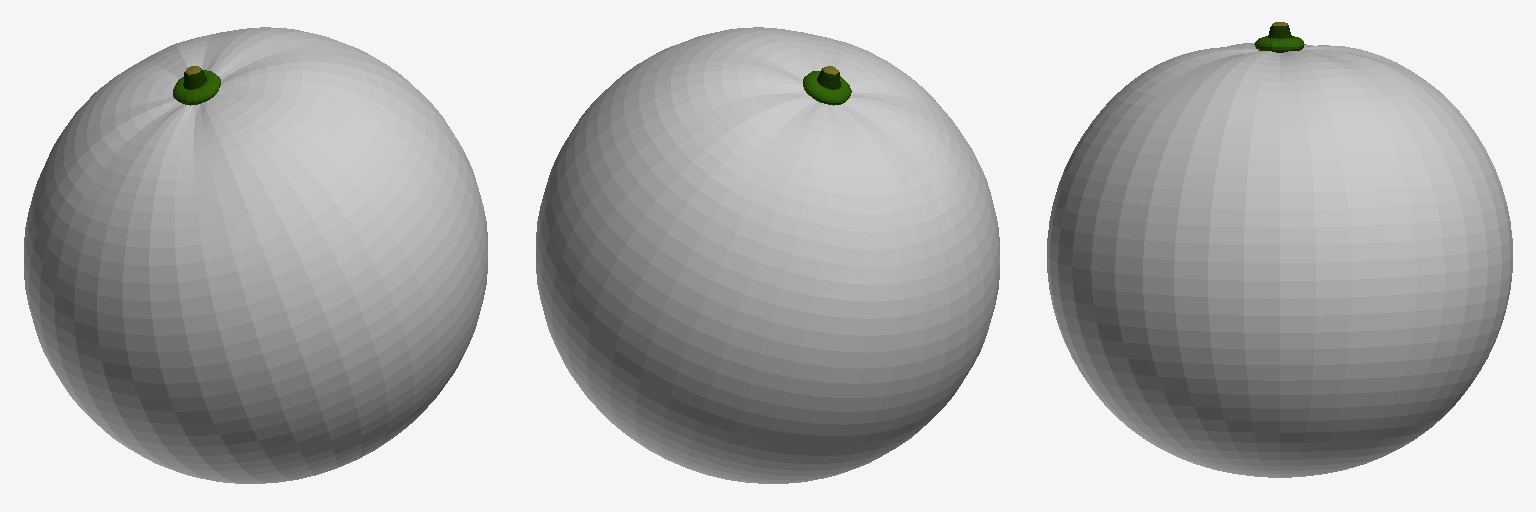
File: orange.obj
3 views of the same model, side by side, from view 1: azimuth 30°, elevation 25°; view 2: azimuth 150°, elevation 25°; view 3: azimuth 270°, elevation 25° (orthographic).
Visible parts, largest first — view 1: pSphere7_Untitled, pTorus1_Untitled.001; view 2: pSphere7_Untitled, pTorus1_Untitled.001; view 3: pSphere7_Untitled, pTorus1_Untitled.001.
Part boxes in pixels (bbox=[...]): pSphere7_Untitled: bbox=[24, 27, 487, 483]; pTorus1_Untitled.001: bbox=[173, 70, 220, 105]; pSphere7_Untitled: bbox=[536, 27, 999, 483]; pTorus1_Untitled.001: bbox=[803, 71, 851, 105]; pSphere7_Untitled: bbox=[1047, 43, 1512, 477]; pTorus1_Untitled.001: bbox=[1254, 36, 1304, 52].
Bounding box in the file's own units: 6.52 × 6.28 × 6.54.